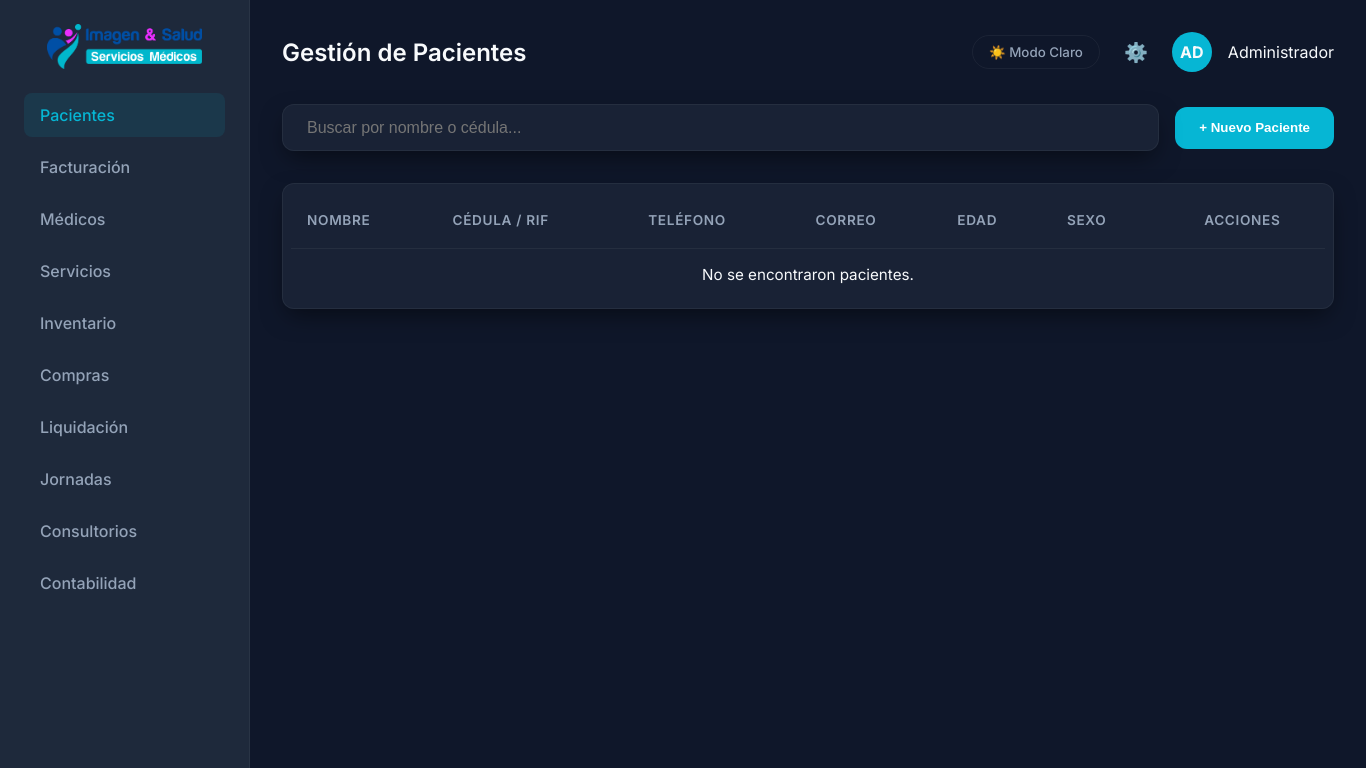
it: Services Integration Tests › should open service form when clicking Nuevo Servicio button
Click the list item "Servicios".
click(76, 271)  # box top-left (40, 261), bottom-right (111, 281)
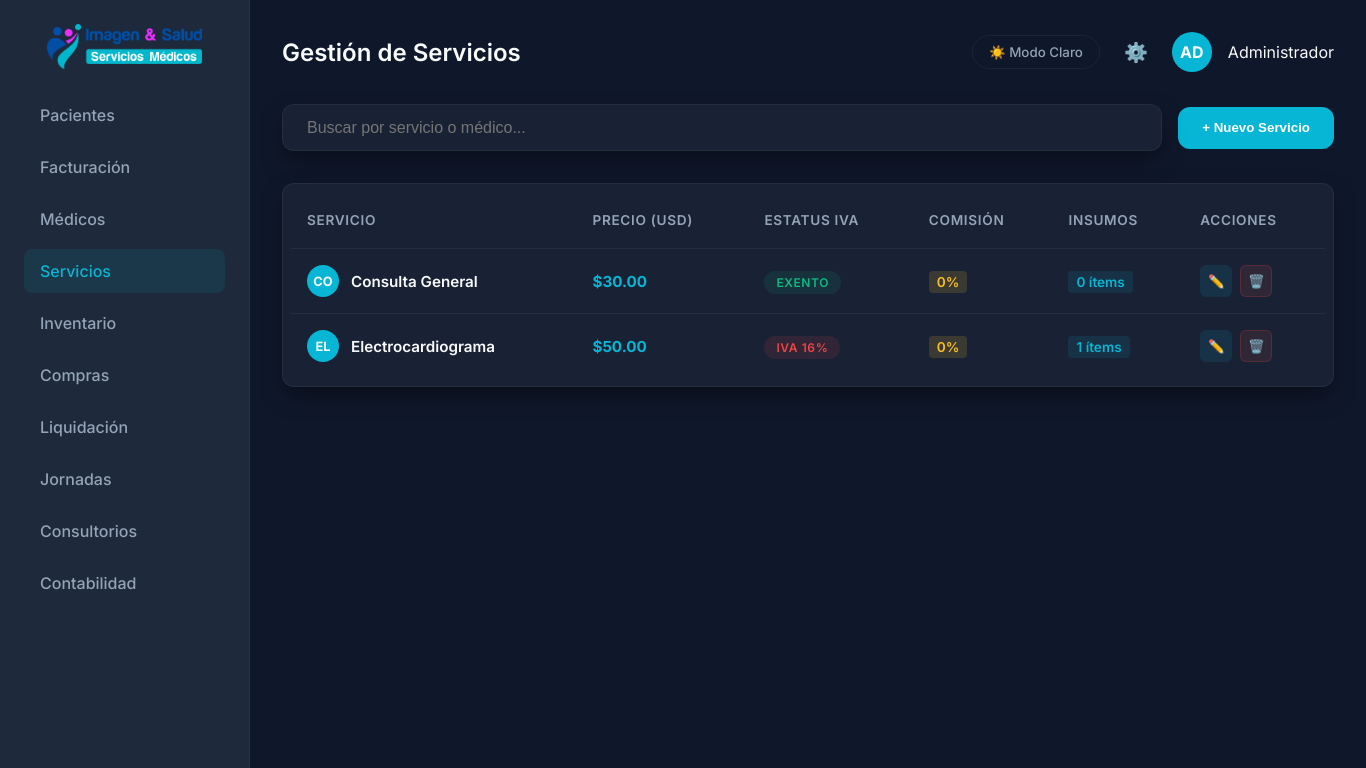
Click the button "+ Nuevo Servicio".
click(1256, 128)  # box top-left (1178, 106), bottom-right (1334, 149)
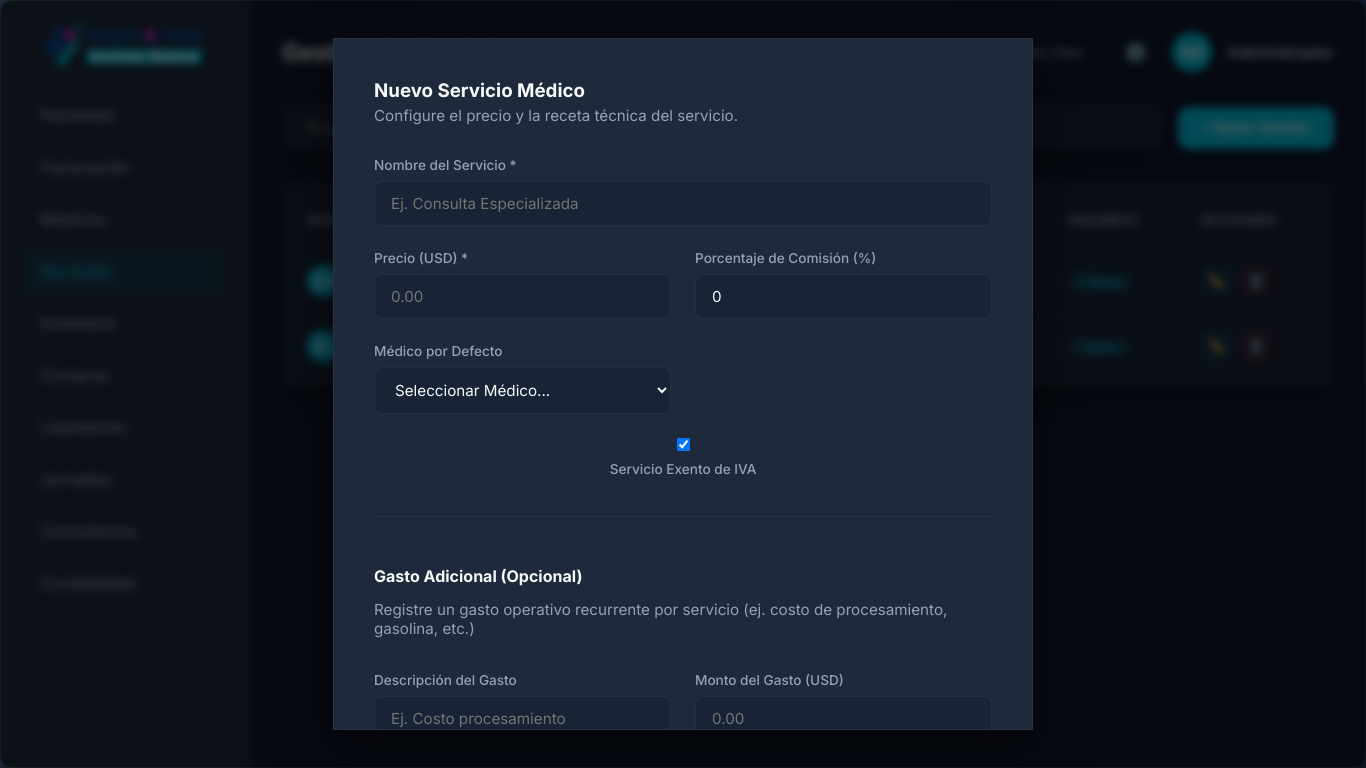
Check: the heading "Nuevo Servicio Médico" is shown, box top-left (374, 79), bottom-right (585, 102)
